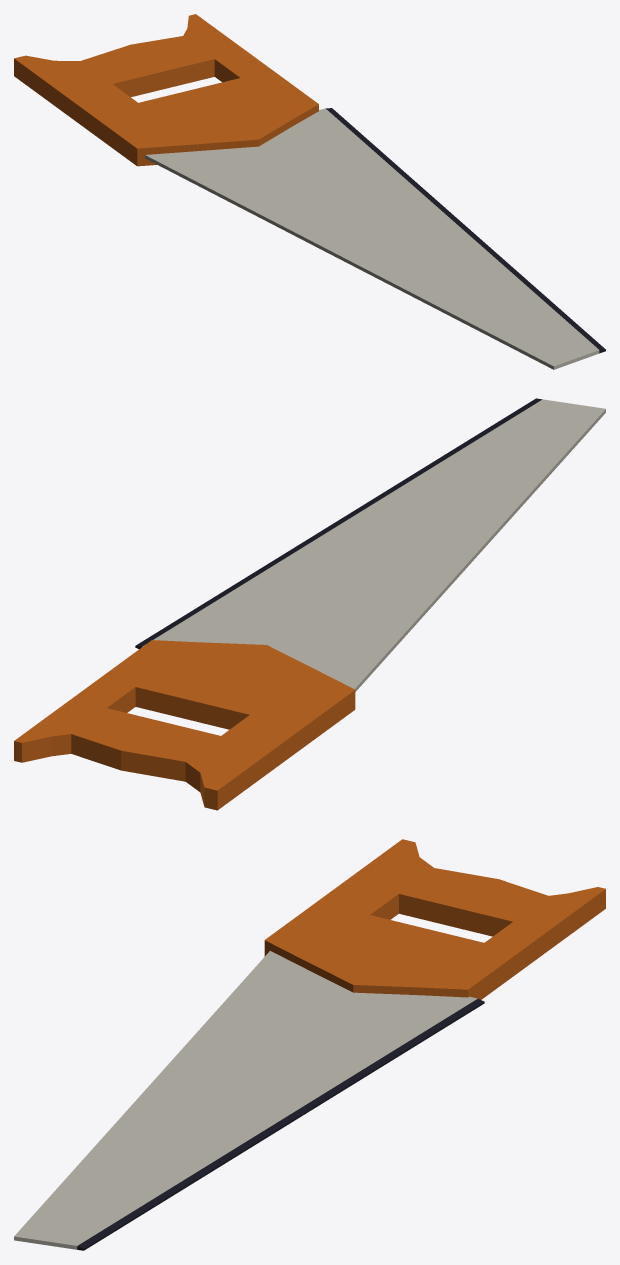
Rendered from 2Z5-FkJ3AKX.glb.
3 views of the same model, one above another, from view 1: azimuth 30°, elevation 25°; view 2: azimuth 150°, elevation 25°; view 3: azimuth 330°, elevation 25° (orthographic). The views are drawn at different scales.
Parts seen in each view (by area): view 1: Node; view 2: Node; view 3: Node.
Part boxes in pixels (box(x1,y1,x2,y2)): Node: box(14, 14, 605, 369); Node: box(14, 398, 605, 810); Node: box(14, 839, 605, 1250).
Size of the model in its own units: 11.55 by 1 by 45.33.
